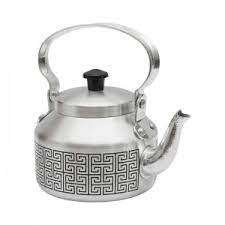Kettle: (35, 24, 191, 202)
